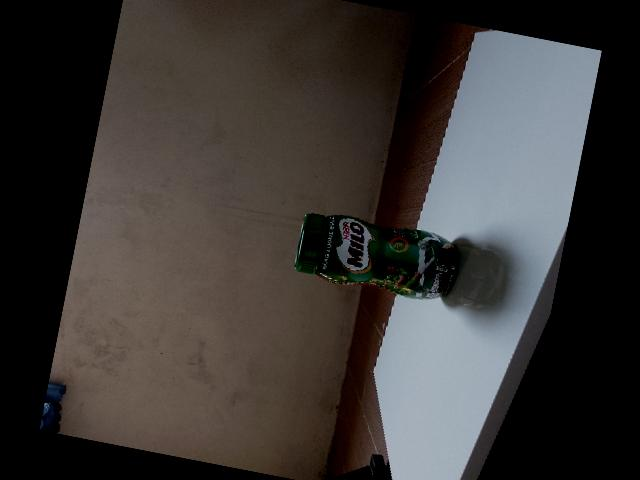milo: (294, 211, 460, 299)
